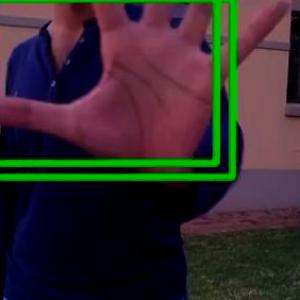follow_hand: (1, 0, 293, 180)
